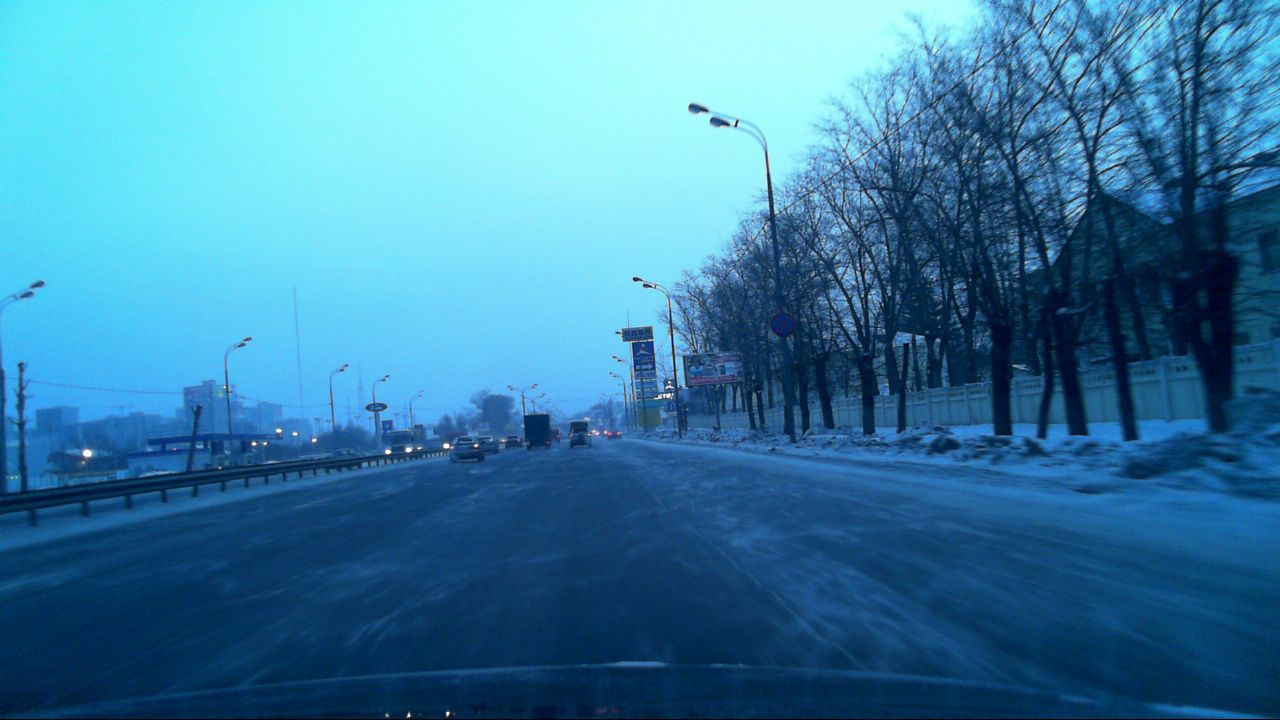No Parking: (770, 312, 795, 336)
